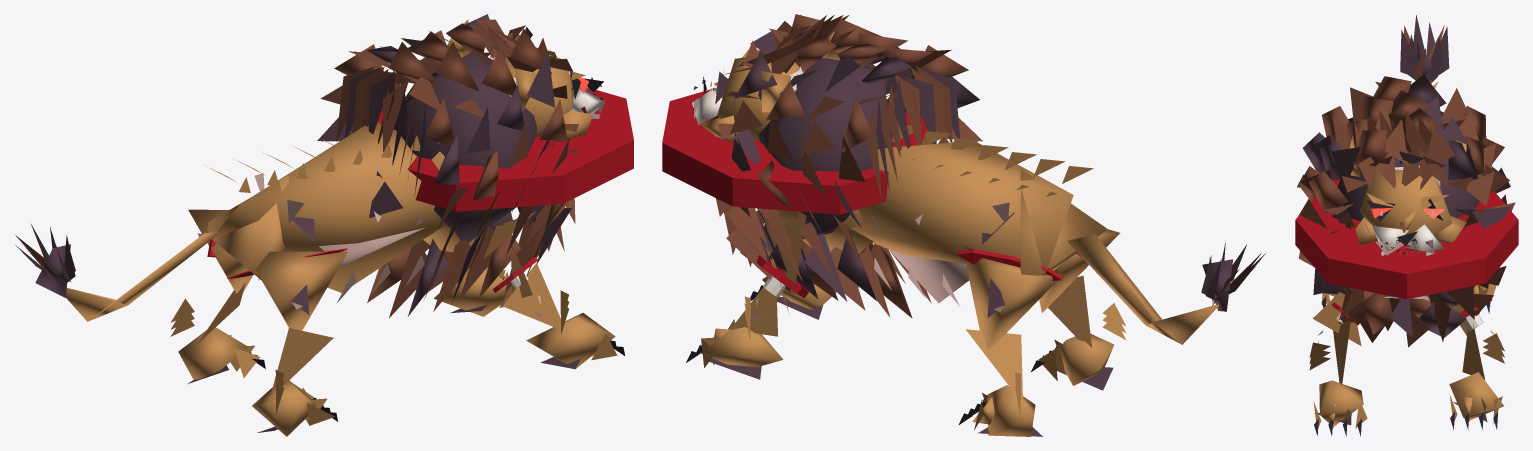
The model's file is inf.lion.lod2.glb.
The picture shows the model from 3 angles, left to right: view 1: azimuth 30°, elevation 25°; view 2: azimuth 150°, elevation 25°; view 3: azimuth 270°, elevation 25°; orthographic projection. The views are drawn at different scales.
Visible parts, largest first — view 1: head, body, stump_head, legBR, tail, pawFR, pawBL, hip, pawBR, foreArmR, pawFL, shinR (+1 smaller); view 2: head, body, stump_head, tail, legBL, pawBR, pawFL, hip, pawBL, shinL, shinR, foreArmL (+5 smaller); view 3: head, stump_head, pawFR, pawFL, tail, foreArmR, foreArmL, stump_foreArmL.
Part boxes in pixels (x1,y1,x2,y2): head: (317,14,605,317); body: (209,122,483,302); stump_head: (378,57,633,211); legBR: (256,251,347,330); tail: (15,224,220,321); pawFR: (526,290,624,369); pawBL: (170,298,265,384); hip: (208,175,288,280); pawBR: (252,370,337,436); foreArmR: (503,245,560,327); pawFL: (434,266,511,316); shinR: (271,328,333,392); head: (692,14,982,318); body: (777,124,1093,306); stump_head: (662,66,927,214); tail: (1067,234,1266,344); legBL: (962,245,1062,348); pawBR: (1031,303,1126,390); pawFL: (686,296,783,379); hip: (1020,169,1107,287); pawBL: (958,372,1042,436); shinL: (966,329,1022,401); shinR: (1048,275,1091,347); foreArmL: (730,246,789,336); head: (1297,74,1515,347); stump_head: (1295,165,1518,299); pawFR: (1309,342,1367,436); pawFL: (1449,333,1504,429); tail: (1400,15,1449,83); foreArmR: (1312,292,1361,384); foreArmL: (1452,288,1494,379); stump_foreArmL: (1459,294,1492,331).
Size of the model in its own units: 2.47 by 1.31 by 0.8958.
